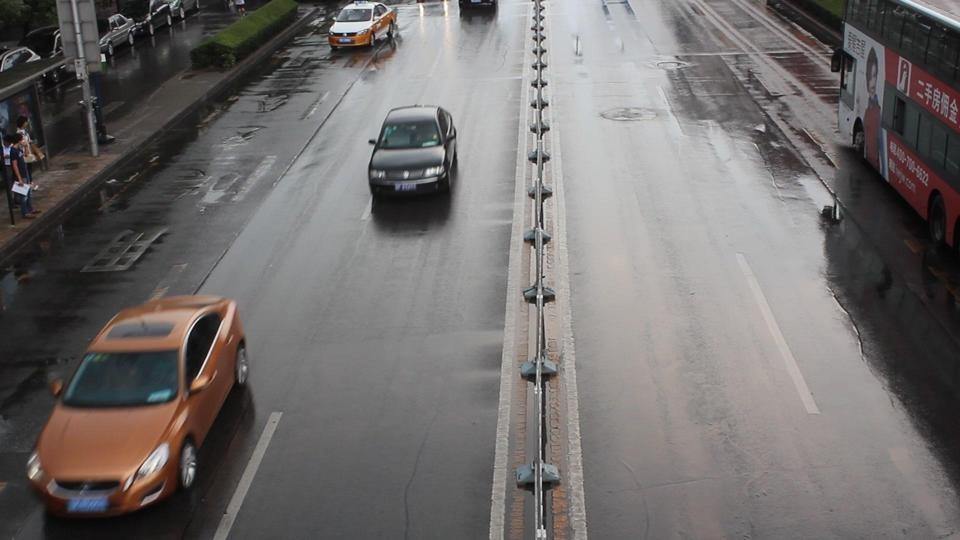car: (25, 295, 249, 520), (368, 105, 458, 197), (327, 0, 400, 51), (458, 0, 497, 11)
